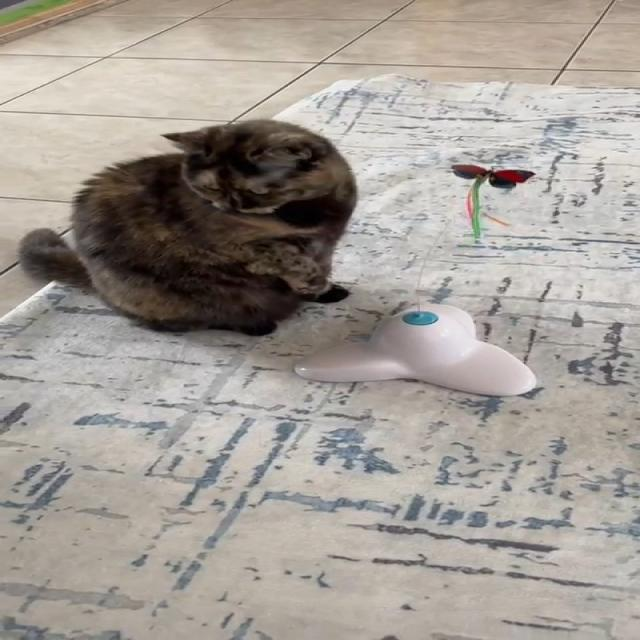authorized: (16, 118, 357, 336)
